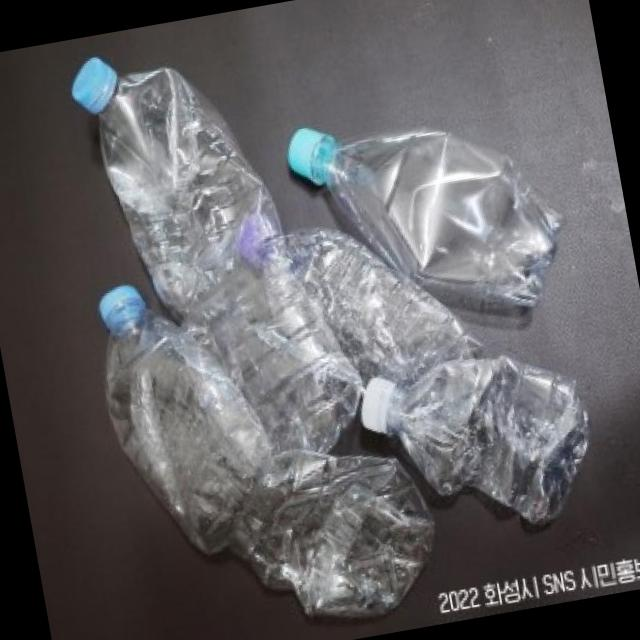plastic_bottle: (67, 23, 374, 490), (88, 241, 447, 640), (283, 86, 577, 348), (228, 175, 490, 412), (356, 338, 606, 549)
